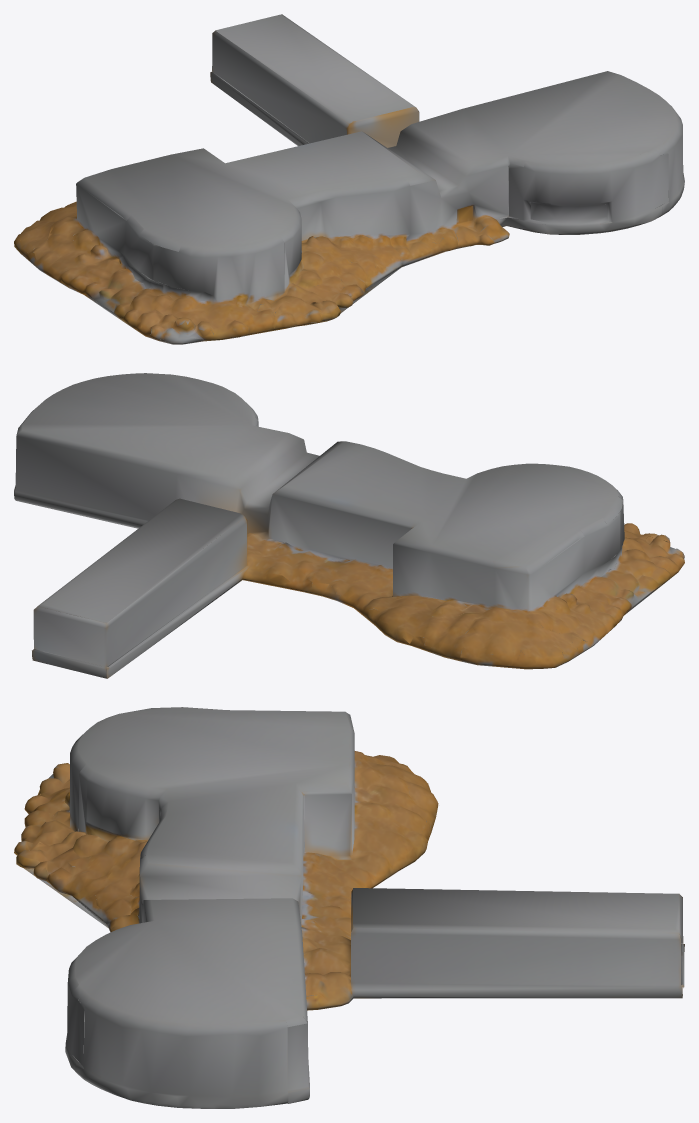
The picture shows the model from 3 angles, top to bottom: view 1: azimuth 30°, elevation 25°; view 2: azimuth 150°, elevation 25°; view 3: azimuth 270°, elevation 25°; orthographic projection. The views are drawn at different scales.
Visible parts, largest first — view 1: material; view 2: material; view 3: material.
Part boxes in pixels (x1,y1,x2,y2): material: (14, 14, 684, 344); material: (14, 373, 684, 678); material: (14, 707, 684, 1108).
Bounding box in the file's own units: 1.9 × 0.2389 × 1.56.
Materials: 1 (1 with a texture image).
